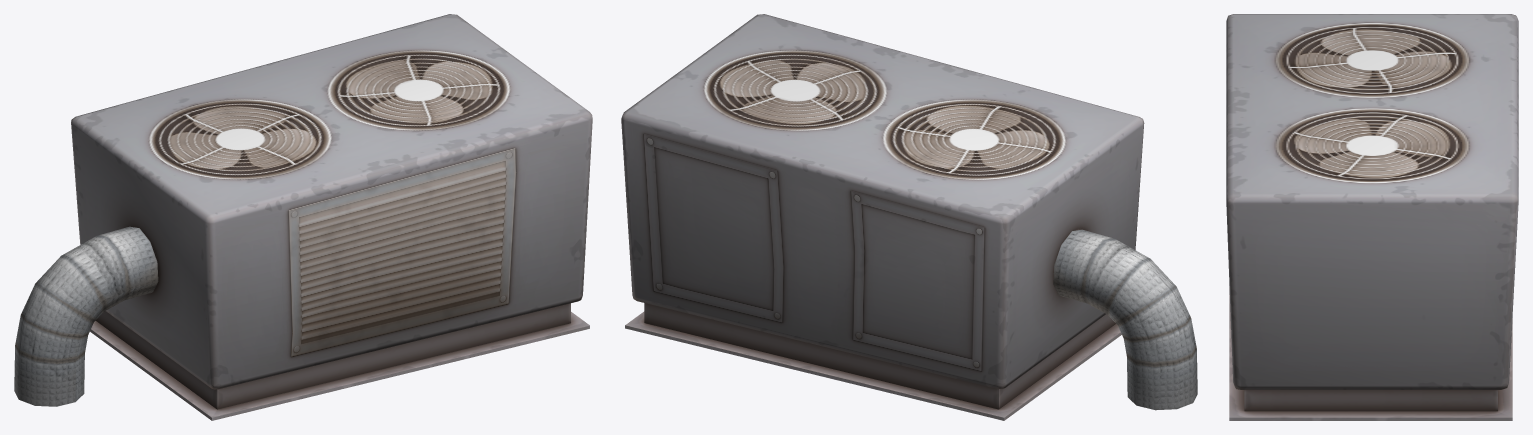
The model's file is RoofVent04.FBX.
3 renders of one model, left to right at view 1: azimuth 30°, elevation 25°; view 2: azimuth 150°, elevation 25°; view 3: azimuth 270°, elevation 25°, orthographic. The views are drawn at different scales.
Parts seen in each view (by area): view 1: RoofVent04; view 2: RoofVent04; view 3: RoofVent04.
Boxes of the visible parts, <box> form: RoofVent04: <box>14,14,592,420</box>; RoofVent04: <box>621,14,1197,420</box>; RoofVent04: <box>1226,14,1518,420</box>.
Size of what is drawn, in the model's own units: 2.48 by 1.02 by 1.19.
